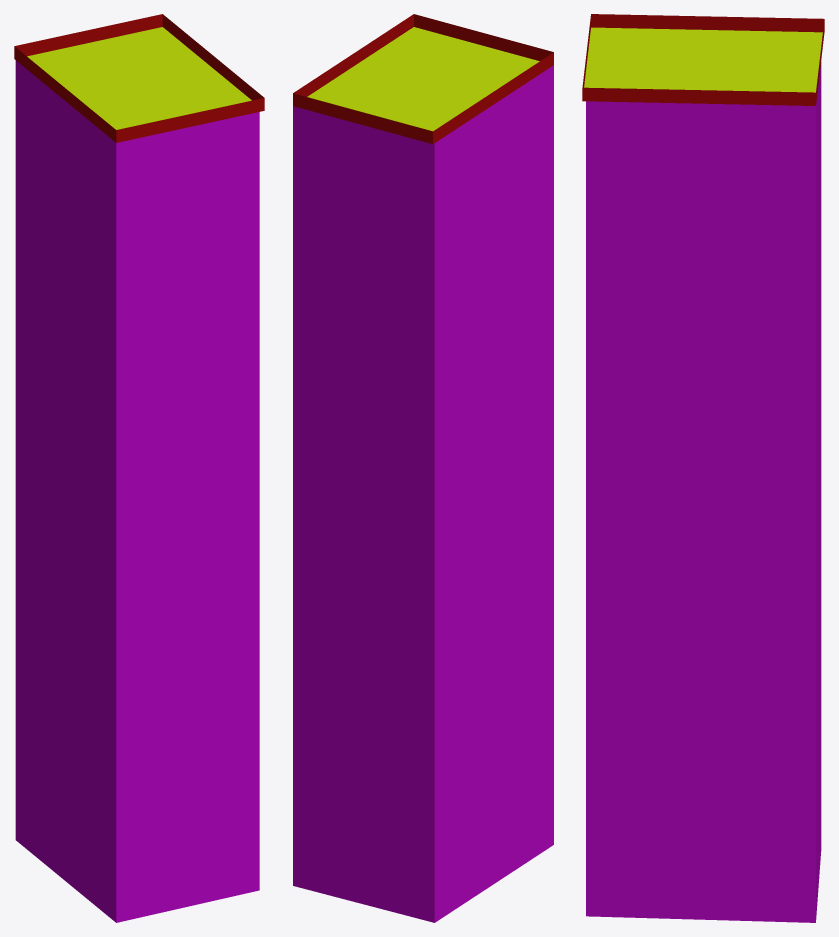
The model's file is sjs_84.glb.
The picture shows the model from 3 angles, left to right: view 1: azimuth 30°, elevation 25°; view 2: azimuth 150°, elevation 25°; view 3: azimuth 270°, elevation 25°; orthographic projection. The views are drawn at different scales.
Parts seen in each view (by area): view 1: sjs_84; view 2: sjs_84; view 3: sjs_84.
Part boxes in pixels (x1=…): sjs_84: x1=14, y1=14, x2=264, y2=922; sjs_84: x1=293, y1=14, x2=553, y2=922; sjs_84: x1=582, y1=14, x2=824, y2=922.
Bounding box in the file's own units: 4.36 × 21.48 × 5.67.
